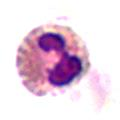eosi: (17, 23, 90, 97)
